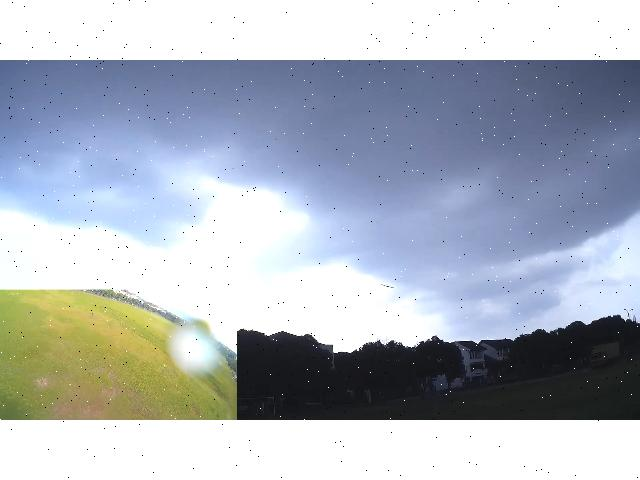Anti-Drone: (381, 284, 395, 288)
